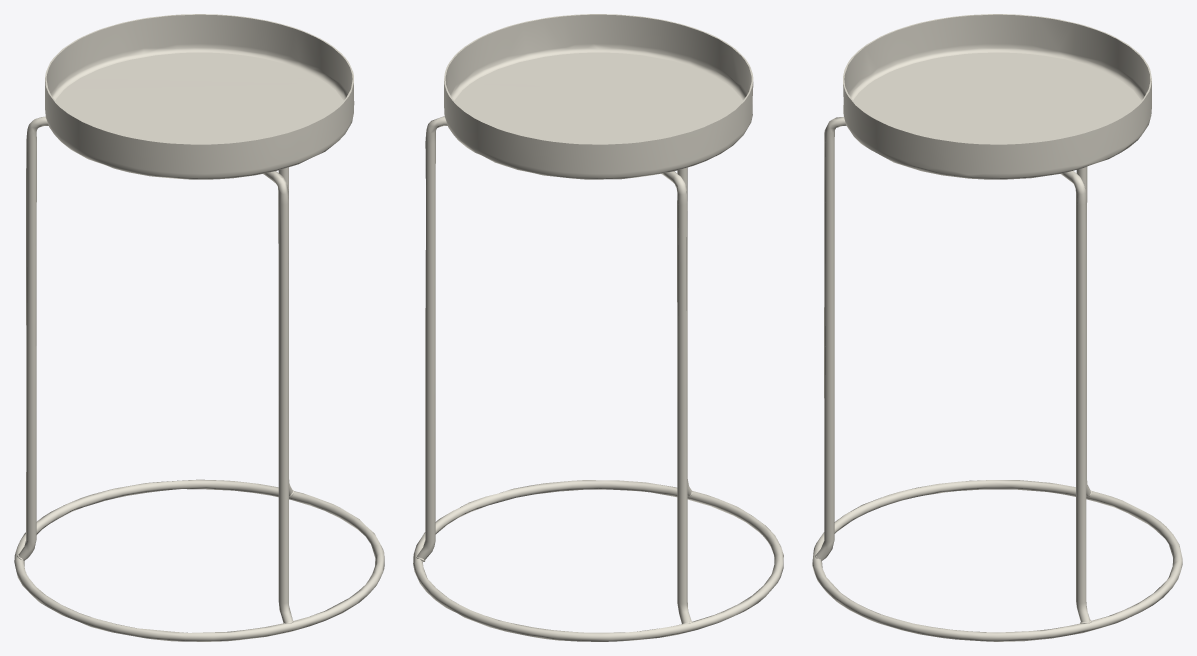
The model's file is langnabb_stojak_na_doniczke_10621725.glb.
3 views of the same model, side by side, from view 1: azimuth 30°, elevation 25°; view 2: azimuth 150°, elevation 25°; view 3: azimuth 270°, elevation 25° (orthographic).
Visible parts, largest first — view 1: langnabb_stojak_na_doniczke_10621725; view 2: langnabb_stojak_na_doniczke_10621725; view 3: langnabb_stojak_na_doniczke_10621725.
Part boxes in pixels (x1,y1,x2,y2): langnabb_stojak_na_doniczke_10621725: (14, 14, 384, 641); langnabb_stojak_na_doniczke_10621725: (413, 14, 783, 641); langnabb_stojak_na_doniczke_10621725: (812, 14, 1182, 641).
Bounding box in the file's own units: 0.1794 × 0.26 × 0.1797.
Materials: 1 (1 with a texture image).
